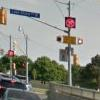Traffic light: (52, 11, 77, 55)
